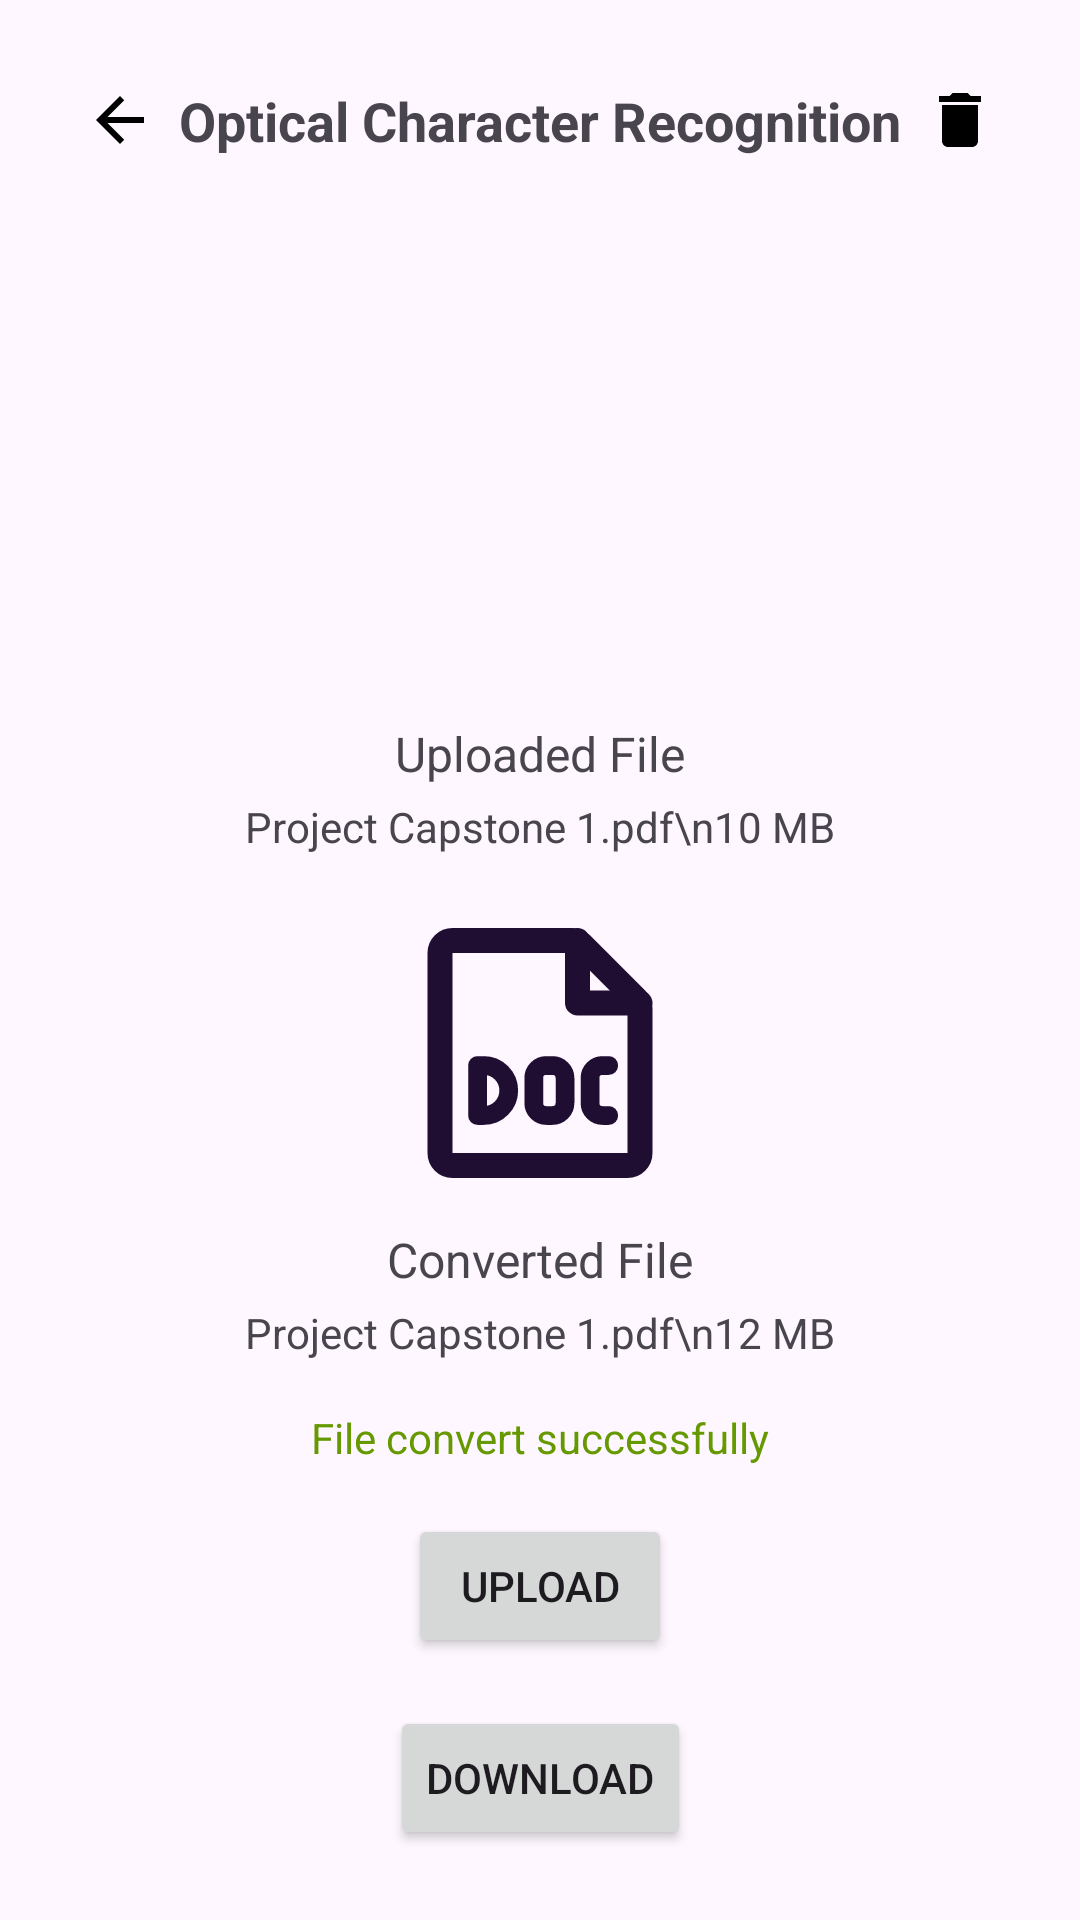

Icons on this 1080 × 1920 Android screen, each with its box as (x1, y1, x2, y2):
Back: (96, 96, 144, 144)
Delete: (939, 93, 981, 147)
